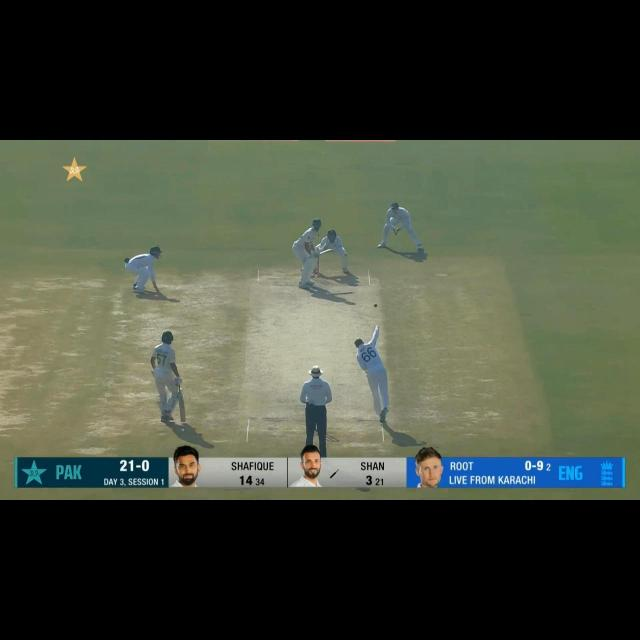bat: (176, 393, 187, 426), (317, 247, 334, 254)
toe: (178, 415, 187, 425), (329, 248, 333, 254)
